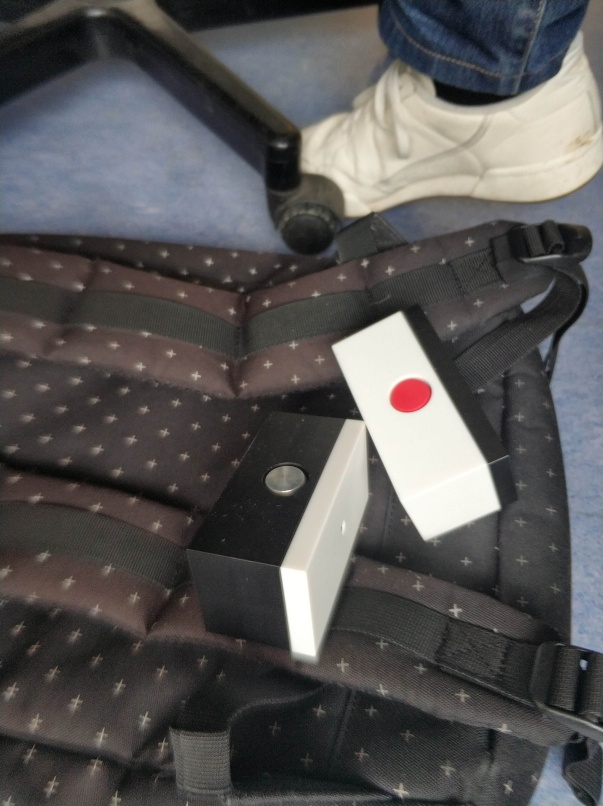black+white+red: (330, 300, 521, 541)
white+black+silver: (177, 396, 374, 663)
